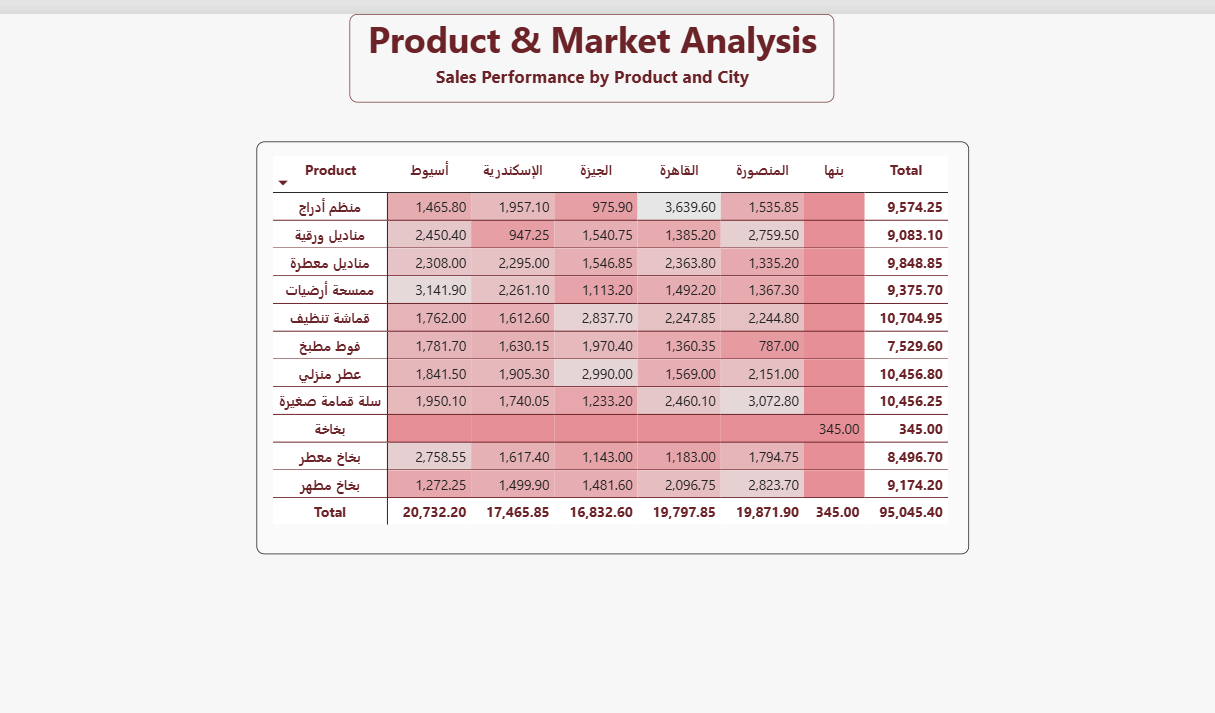

The dashboard page shown, as its layout file describes it:
{"tool":"powerbi","page":{"name":"Page 2","canvas":[1280,720],"ordinal":1},"visuals":[{"type":"pivotTable","fields":{"Rows":["Sheet1.المنتج"],"Columns":["Sheet1.المدينة"],"Values":["Sum(Sheet1.إجمالي المبيعات)"]},"box":[301.3,128.7,719.2,416.4],"z":0},{"type":"textbox","title":"Product & Market Analysis ","box":[395.2,0,489.1,89.3],"z":1000}]}

Visuals, with their boxes on the page's 1280x720 design canvas (x1, y1, x2, y2). These are canvas units, not pixel positions in the 1215x713 screenshot, which may show the page scaled, cropped or inside an application window:
pivotTable - Sheet1.المنتج x Sheet1.المدينة: pyautogui.locateOnScreen(301, 129, 1020, 545)
"Product & Market Analysis " textbox: pyautogui.locateOnScreen(395, 0, 884, 89)
